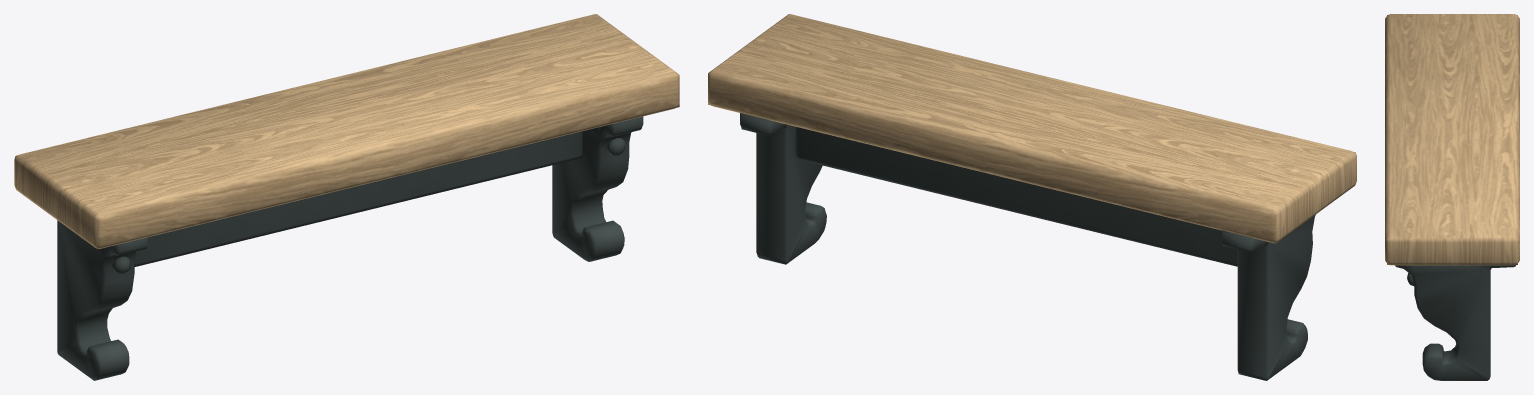
File: wooden-bench.glb
3 views of the same model, side by side, from view 1: azimuth 30°, elevation 25°; view 2: azimuth 150°, elevation 25°; view 3: azimuth 270°, elevation 25° (orthographic). The views are drawn at different scales.
Parts seen in each view (by area): view 1: wooden-bench; view 2: wooden-bench; view 3: wooden-bench.
Boxes of the visible parts, <box> form: wooden-bench: <box>14,14,679,380</box>; wooden-bench: <box>708,14,1356,380</box>; wooden-bench: <box>1385,14,1519,380</box>.
Size of the model in its own units: 0.9961 by 0.3223 by 0.252.
1 material, 1 textured.
